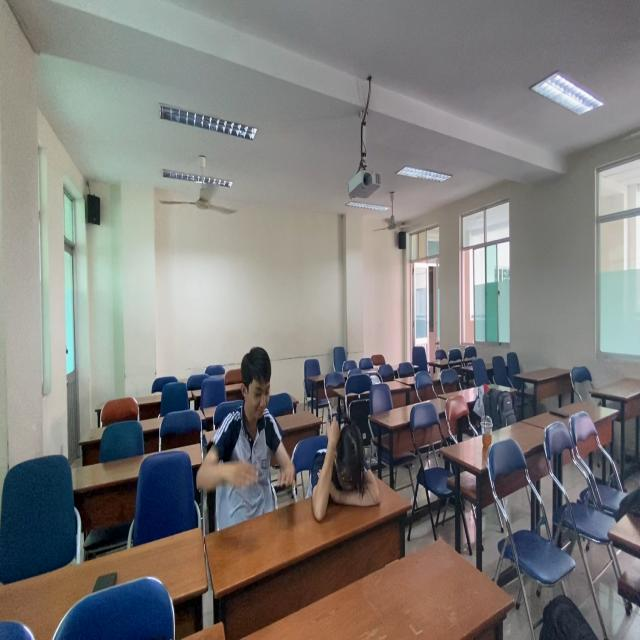sleep: (304, 412, 388, 524)
